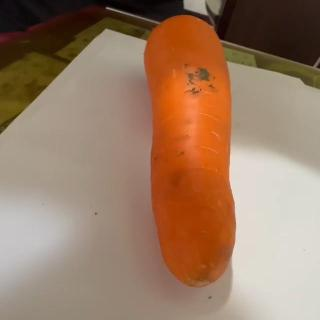carrot: (143, 14, 239, 286)
